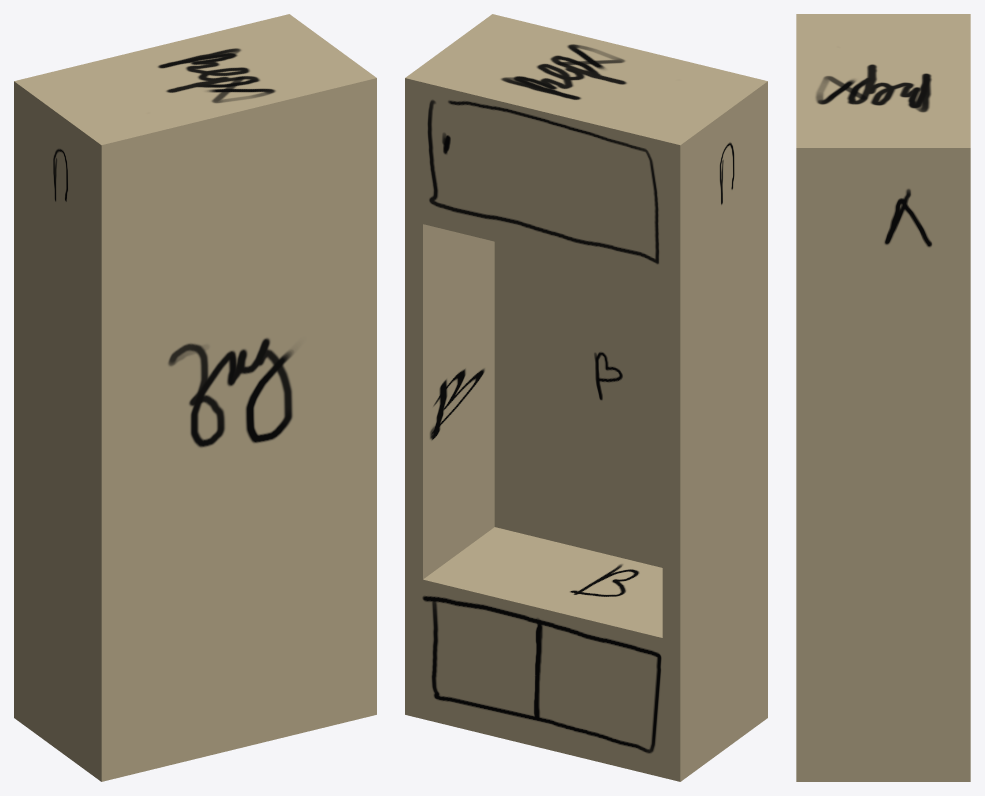
File: fridge (6).fbx
3 renders of one model, left to right at view 1: azimuth 30°, elevation 25°; view 2: azimuth 150°, elevation 25°; view 3: azimuth 270°, elevation 25°, orthographic.
Parts seen in each view (by area): view 1: fridge_main; view 2: fridge_main; view 3: fridge_main.
Part boxes in pixels (x1,y1,x2,y2): fridge_main: (14, 14, 376, 781); fridge_main: (405, 14, 767, 781); fridge_main: (796, 14, 970, 781).
Bounding box in the file's own units: 1.28 × 2.83 × 0.7052.
